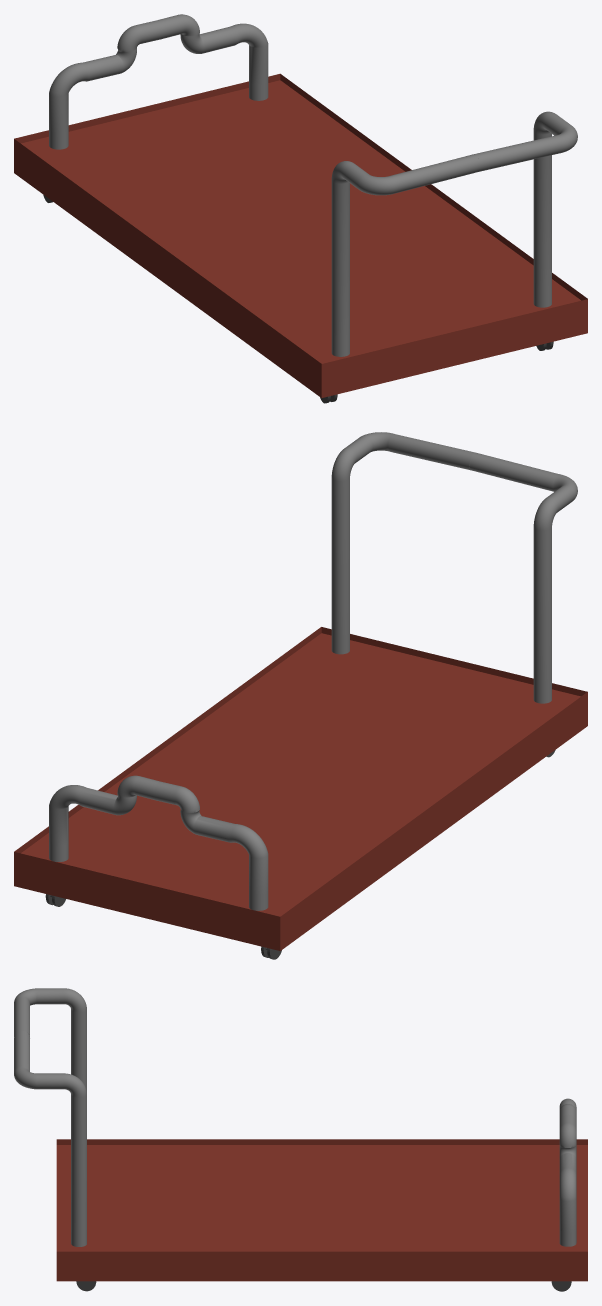
File: Trolley flatbed.fbx
The picture shows the model from 3 angles, top to bottom: view 1: azimuth 30°, elevation 25°; view 2: azimuth 150°, elevation 25°; view 3: azimuth 270°, elevation 25°; orthographic projection. The views are drawn at different scales.
Visible parts, largest first — view 1: Cube, Cylinder.006, Cylinder; view 2: Cube, Cylinder.006, Cylinder; view 3: Cube, Cylinder.006, Cylinder.
Part boxes in pixels (x1,y1,x2,y2): Cube: (14,73,587,397); Cylinder.006: (331,111,577,356); Cylinder: (49,14,268,149); Cube: (14,627,587,950); Cylinder.006: (331,432,577,703); Cylinder: (49,775,268,910); Cube: (56,1139,587,1281); Cylinder.006: (14,988,86,1246); Cylinder: (559,1098,576,1246).
Bounding box in the file's own units: 400 × 357 × 864.
